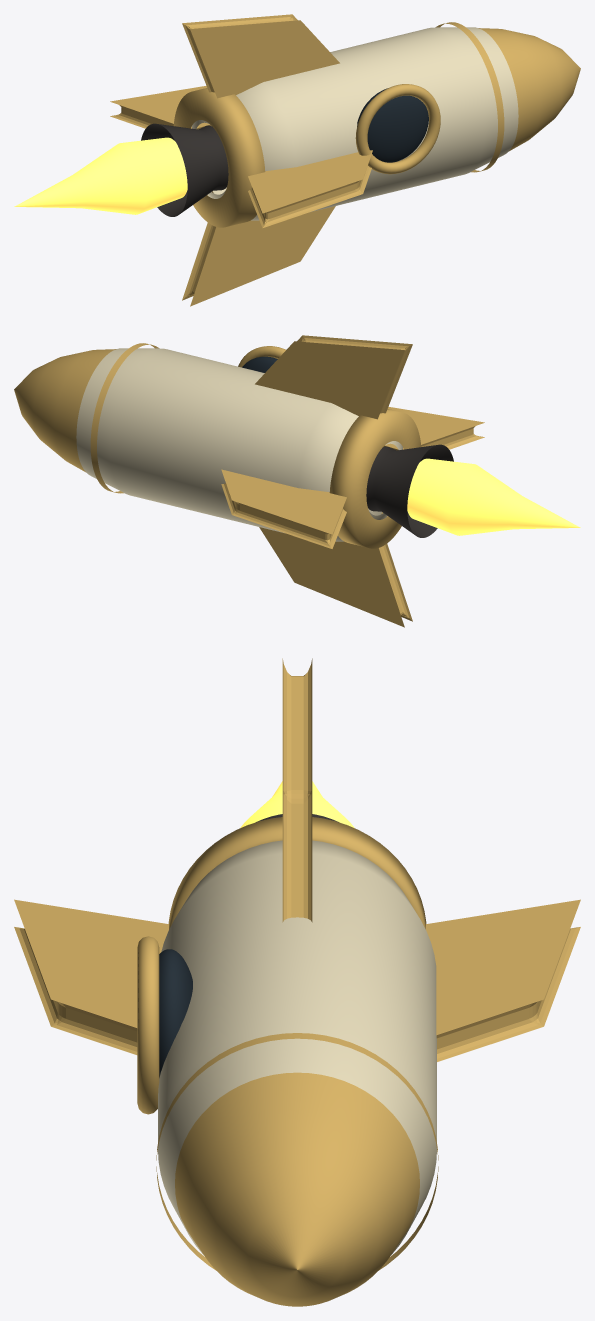
Rendered from rocket.glb.
3 renders of one model, top to bottom at view 1: azimuth 30°, elevation 25°; view 2: azimuth 150°, elevation 25°; view 3: azimuth 270°, elevation 25°, orthographic. The views are drawn at different scales.
Visible parts, largest first — view 1: Ivory rocket fuselage, Swept brass fin.001, Golden exhaust, Swept brass fin.003, Brass tail collar, Brass ogive nose, Swept brass fin.002, Exhaust nozzle, Rocket porthole, Brass porthole rim, Swept brass fin, Nose seam; view 2: Ivory rocket fuselage, Swept brass fin.001, Golden exhaust, Swept brass fin.003, Brass tail collar, Swept brass fin, Brass ogive nose, Exhaust nozzle, Swept brass fin.002, Nose seam, Brass porthole rim, Rocket porthole; view 3: Ivory rocket fuselage, Brass ogive nose, Swept brass fin, Swept brass fin.002, Swept brass fin.001, Brass tail collar, Brass porthole rim, Rocket porthole, Nose seam, Golden exhaust.
Part boxes in pixels (x1,y1,x2,y2): Ivory rocket fuselage: [191, 27, 518, 220]; Swept brass fin.001: [182, 14, 339, 98]; Golden exhaust: [14, 137, 187, 214]; Swept brass fin.003: [182, 206, 335, 306]; Brass tail collar: [173, 88, 265, 227]; Brass ogive nose: [478, 28, 580, 151]; Swept brass fin.002: [248, 150, 372, 227]; Exhaust nozzle: [141, 123, 228, 216]; Rocket porthole: [357, 88, 428, 162]; Brass porthole rim: [355, 84, 440, 174]; Swept brass fin: [110, 85, 211, 129]; Nose seam: [436, 22, 504, 172]; Ivory rocket fuselage: [76, 348, 403, 541]; Swept brass fin.001: [255, 335, 412, 419]; Golden exhaust: [407, 458, 580, 535]; Swept brass fin.003: [259, 527, 412, 627]; Brass tail collar: [329, 409, 421, 548]; Swept brass fin: [221, 469, 346, 548]; Brass ogive nose: [14, 349, 116, 472]; Exhaust nozzle: [366, 444, 453, 537]; Swept brass fin.002: [383, 406, 484, 450]; Nose seam: [90, 343, 158, 493]; Brass porthole rim: [238, 346, 285, 367]; Rocket porthole: [242, 356, 277, 372]; Ivory rocket fuselage: [158, 840, 436, 1254]; Brass ogive nose: [175, 1072, 419, 1306]; Swept brass fin: [426, 899, 580, 1061]; Swept brass fin.002: [14, 899, 168, 1054]; Swept brass fin.001: [282, 658, 312, 922]; Brass tail collar: [168, 817, 426, 929]; Brass porthole rim: [137, 936, 159, 1114]; Rocket porthole: [159, 949, 192, 1077]; Nose seam: [156, 1033, 438, 1270]; Golden exhaust: [240, 781, 354, 827].
Bounding box in the file's own units: 1.78 × 0.8326 × 0.8326.
